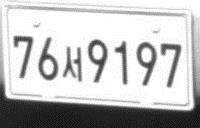1: (113, 40, 129, 86)
6: (37, 36, 59, 81)
7: (159, 42, 182, 87), (12, 35, 34, 80)
9: (86, 38, 109, 83), (136, 40, 158, 87)
서: (62, 45, 83, 82)
